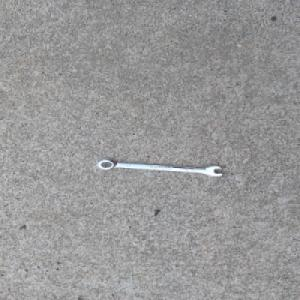Wrench: (95, 158, 224, 177)
